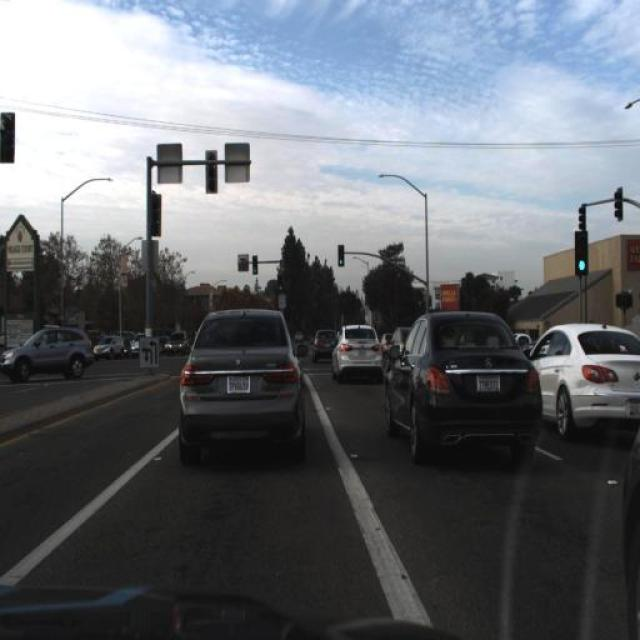car: (377, 300, 543, 476), (518, 286, 636, 444), (178, 315, 298, 465), (614, 410, 638, 634), (1, 330, 88, 374), (337, 317, 382, 378), (386, 317, 412, 387), (90, 332, 126, 366), (311, 321, 335, 367), (374, 318, 396, 358), (90, 331, 120, 358), (339, 321, 362, 351), (128, 332, 148, 357)
trafficLight-Green: (200, 154, 215, 193), (612, 184, 626, 224), (151, 192, 163, 237), (576, 207, 588, 233)
trafficLight-GreenLeft: (576, 232, 588, 272), (336, 242, 346, 270), (274, 276, 286, 296), (275, 272, 284, 298), (250, 256, 260, 278), (251, 252, 260, 276), (336, 244, 344, 266), (418, 294, 426, 314)
